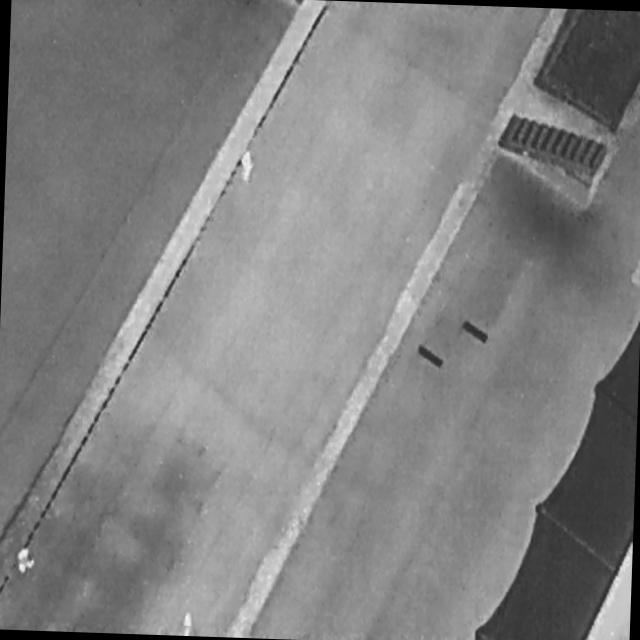person: (16, 547, 36, 575), (240, 150, 255, 184), (181, 610, 195, 635)
